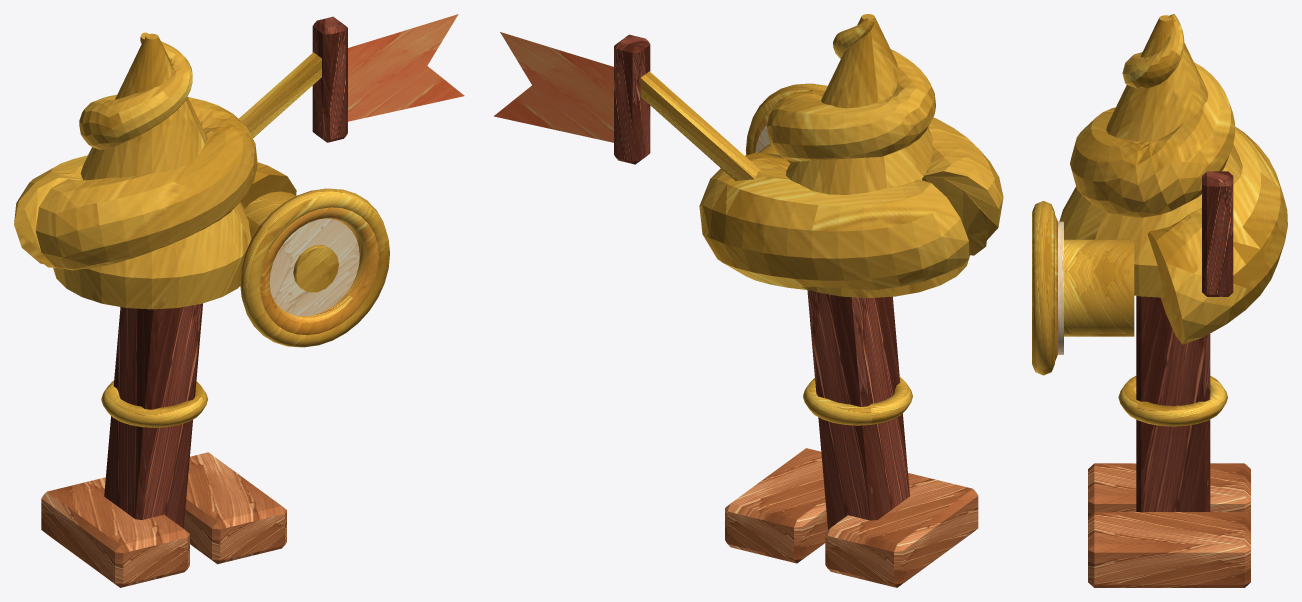
The model's file is revised-08-05.glb.
3 views of the same model, side by side, from view 1: azimuth 30°, elevation 25°; view 2: azimuth 150°, elevation 25°; view 3: azimuth 270°, elevation 25° (orthographic). The views are drawn at different scales.
Parts seen in each view (by area): view 1: conch_signal; view 2: conch_signal; view 3: conch_signal.
Part boxes in pixels (x1,y1,x2,y2): conch_signal: (14, 14, 464, 587); conch_signal: (494, 14, 1003, 587); conch_signal: (1032, 14, 1287, 587).
Size of the model in its own units: 1.47 by 1.56 by 0.6906.
1 material, 1 textured.
